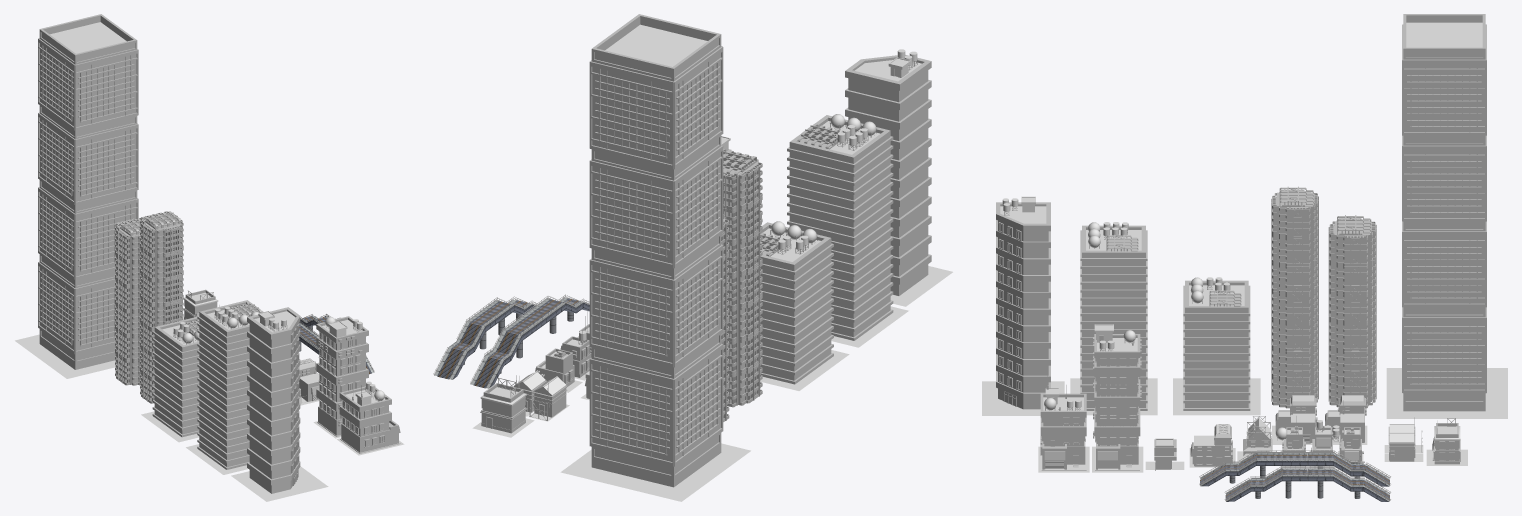
Rendered from street buildings.fbx.
The picture shows the model from 3 angles, left to right: view 1: azimuth 30°, elevation 25°; view 2: azimuth 150°, elevation 25°; view 3: azimuth 270°, elevation 25°; orthographic projection. The views are drawn at different scales.
Parts seen in each view (by area): view 1: c_b - x light.001, Cube.001, b_for bake, b9.001, frame_big.019, frame_big.013, b9.005, Cube.004, Cube.002, b1.002, w2.007, Cube.003 (+12 smaller); view 2: c_b - x light.001, Cube.001, b9.001, b_for bake, frame_big.019, b9.005, Cube.004, Cube.002, b8.005, Cube.003, b2.001, b9.002 (+12 smaller); view 3: Cube.001, c_b - x light.001, frame_big.019, b_for bake, frame_big.013, b9.005, b9.001, Cube.004, b1.002, Cube.002, b8.005, w4.001 (+19 smaller).
Part boxes in pixels (left/top/right/bottom): c_b - x light.001: left=38, top=38, right=138, bottom=354; Cube.001: left=40, top=43, right=136, bottom=350; b_for bake: left=247, top=307, right=300, bottom=493; b9.001: left=197, top=320, right=249, bottom=469; frame_big.019: left=140, top=211, right=183, bottom=403; frame_big.013: left=115, top=218, right=140, bottom=385; b9.005: left=152, top=335, right=199, bottom=437; Cube.004: left=39, top=14, right=137, bottom=64; Cube.002: left=39, top=105, right=137, bottom=288; b1.002: left=316, top=334, right=368, bottom=419; w2.007: left=318, top=331, right=360, bottom=418; Cube.003: left=39, top=329, right=115, bottom=369; c_b - x light.001: left=589, top=46, right=723, bottom=466; Cube.001: left=592, top=53, right=720, bottom=461; b9.001: left=787, top=141, right=893, bottom=340; b_for bake: left=845, top=55, right=931, bottom=295; frame_big.019: left=723, top=148, right=762, bottom=407; b9.005: left=760, top=249, right=833, bottom=384; Cube.004: left=591, top=14, right=721, bottom=81; Cube.002: left=591, top=135, right=721, bottom=378; b8.005: left=560, top=443, right=750, bottom=501; Cube.003: left=591, top=433, right=721, bottom=487; b2.001: left=472, top=383, right=534, bottom=437; b9.002: left=787, top=115, right=893, bottom=167; Cube.001: left=1404, top=64, right=1484, bottom=389; c_b - x light.001: left=1402, top=24, right=1486, bottom=393; frame_big.019: left=1271, top=186, right=1318, bottom=408; b_for bake: left=996, top=202, right=1050, bottom=409; frame_big.013: left=1328, top=215, right=1376, bottom=408; b9.005: left=1183, top=316, right=1250, bottom=410; b9.001: left=1080, top=261, right=1147, bottom=410; Cube.004: left=1403, top=14, right=1485, bottom=59; b1.002: left=1094, top=358, right=1140, bottom=446; Cube.002: left=1403, top=135, right=1485, bottom=317; b8.005: left=1386, top=368, right=1507, bottom=418; w4.001: left=998, top=222, right=1021, bottom=391.
Bounding box in the file's own units: 7681 × 9740 × 12777.
